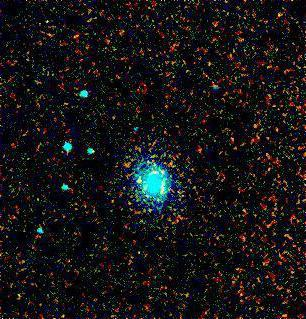star: (126, 165, 156, 195)
